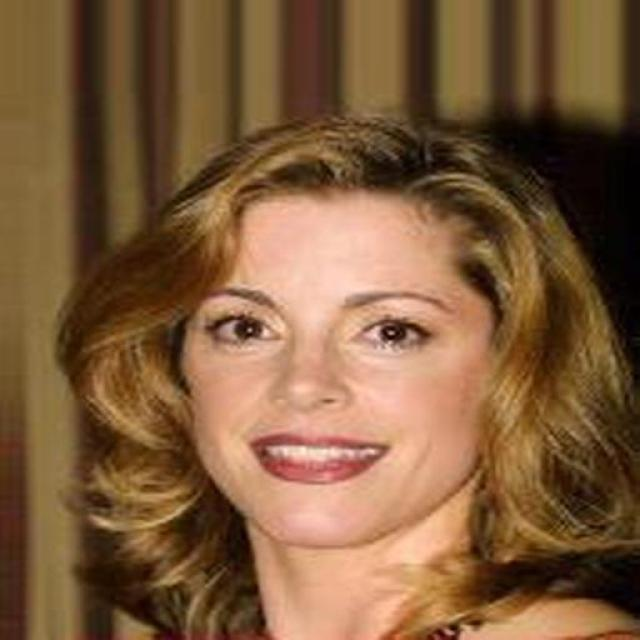bareface: (188, 160, 514, 546)
